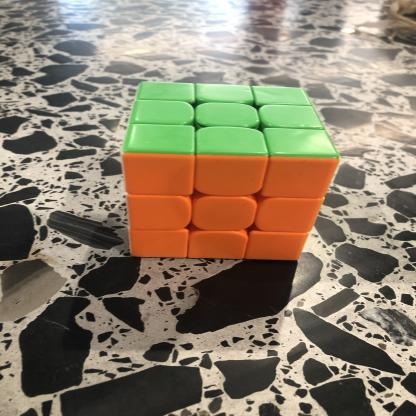SolvedCube: (105, 77, 336, 268)
